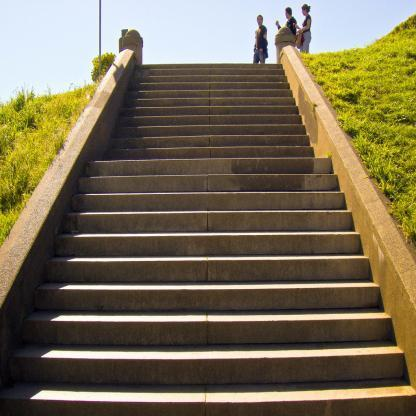person: (274, 5, 298, 56), (249, 12, 271, 66), (297, 1, 315, 56)
stair: (51, 56, 368, 416)
